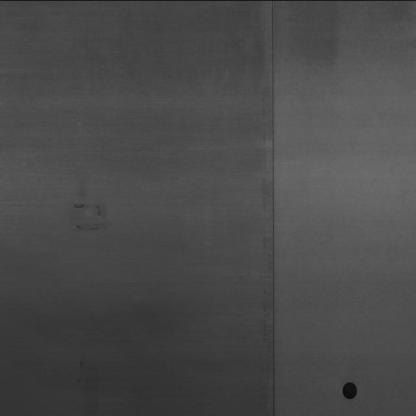punching_hole: (337, 374, 364, 404)
welding_line: (256, 5, 295, 416)
